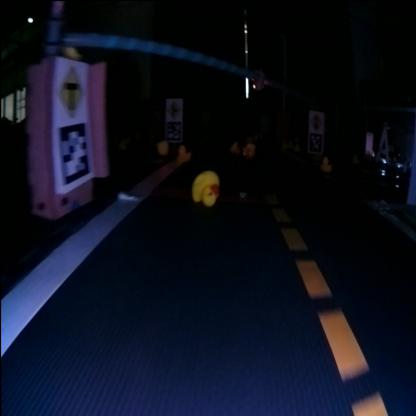Duckie: (194, 169, 218, 203), (178, 144, 190, 160), (321, 155, 331, 171), (158, 139, 168, 153), (231, 141, 240, 153), (246, 142, 254, 154)
Intersection sign: (54, 62, 86, 118), (166, 98, 182, 116)
QR code: (55, 122, 90, 182), (167, 118, 181, 140), (309, 131, 323, 150)
Signal sign: (310, 111, 322, 129)
